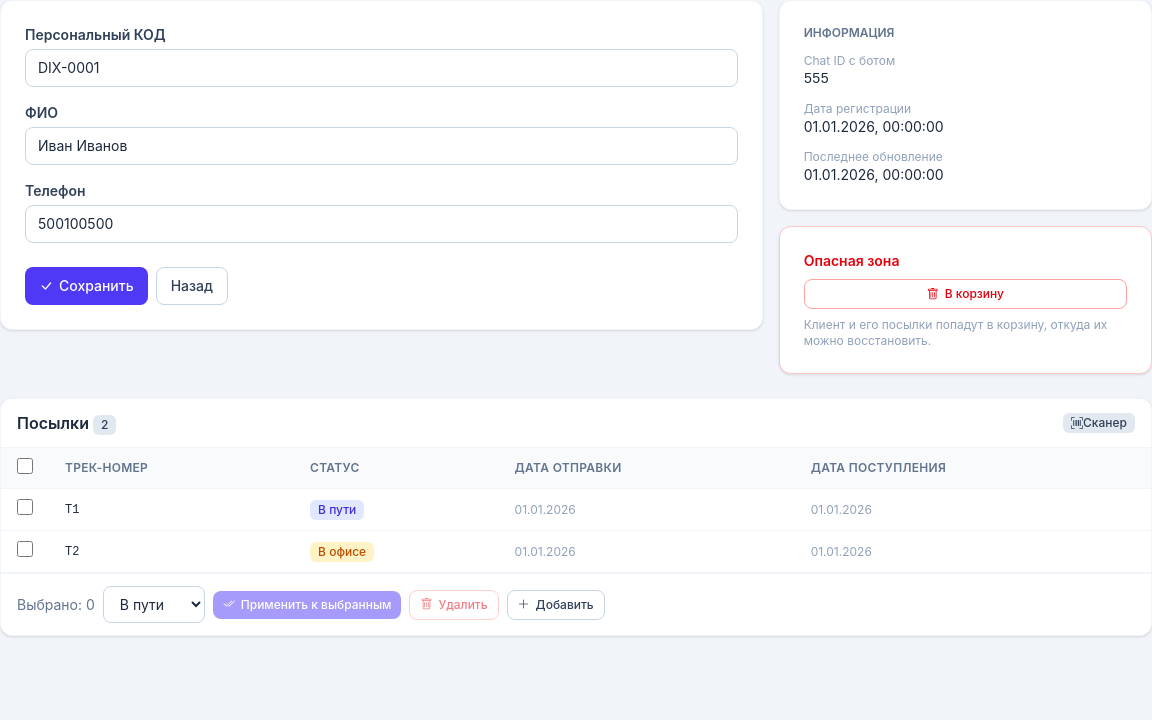
Test: UserDetailView — packages table › selects individual rows and the select-all checkbox
Click the checkbox next to "T1". click: [25, 507]
box: [17, 499, 33, 515]
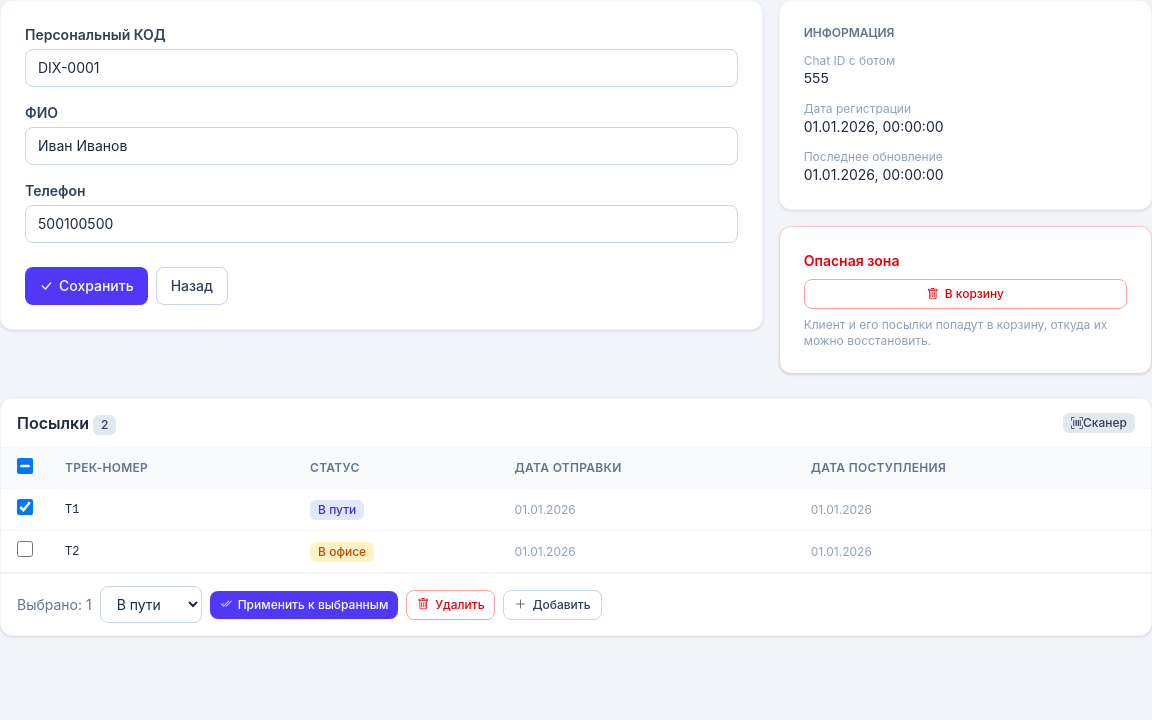
Now the text "Выбрано: 1" is shown, box [17, 594, 92, 614]
Click the checkbox named "Выбрать все". click: [25, 466]
box: [17, 458, 33, 474]
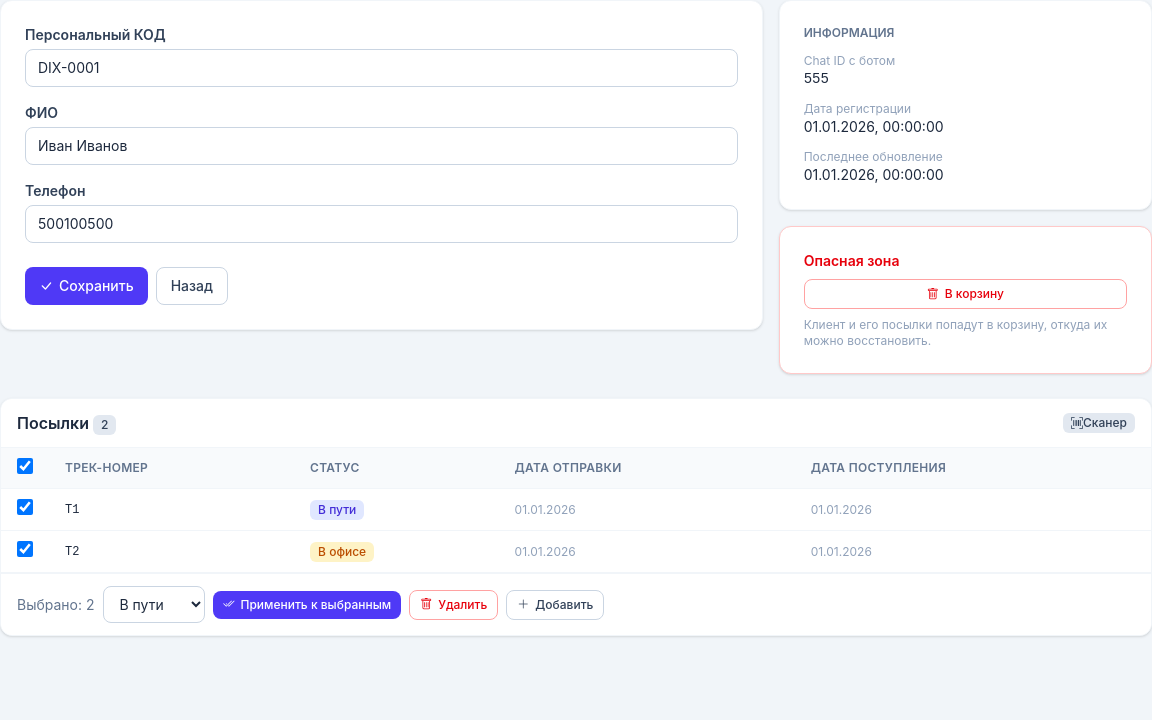
Now the text "Выбрано: 2" is shown, box [17, 594, 94, 614]
Click the checkbox named "Выбрать все". click: [25, 466]
box: [17, 458, 33, 474]
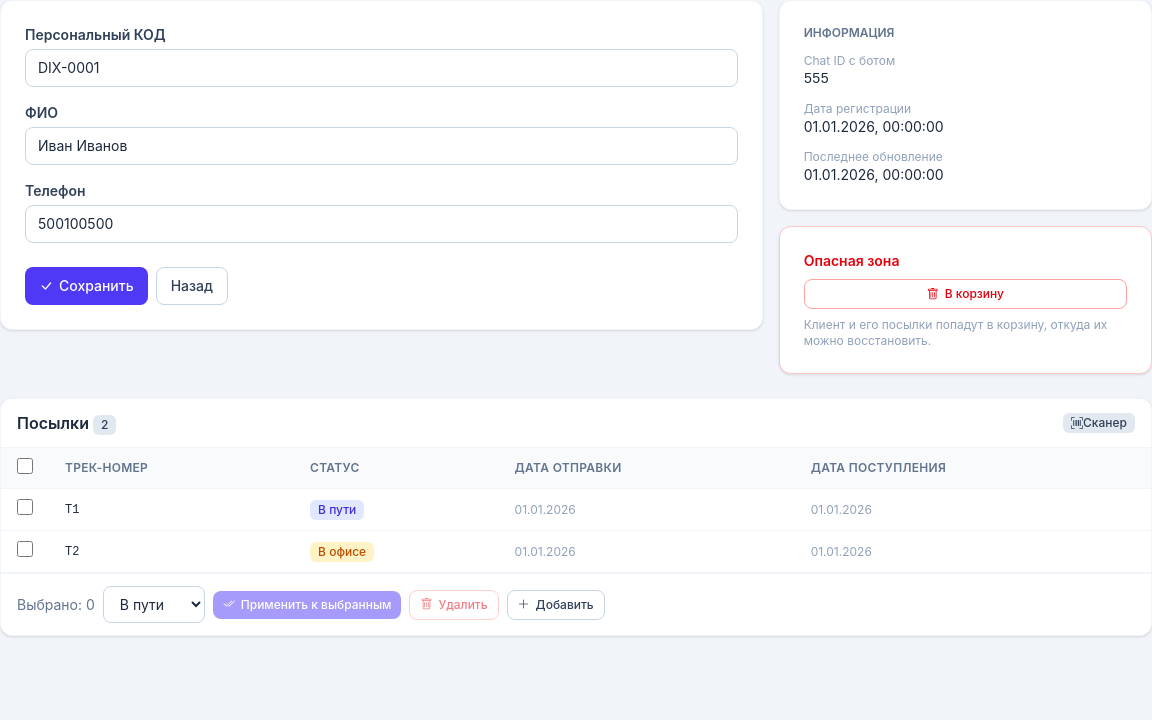
Now the text "Выбрано: 0" is shown, box [17, 594, 95, 614]
